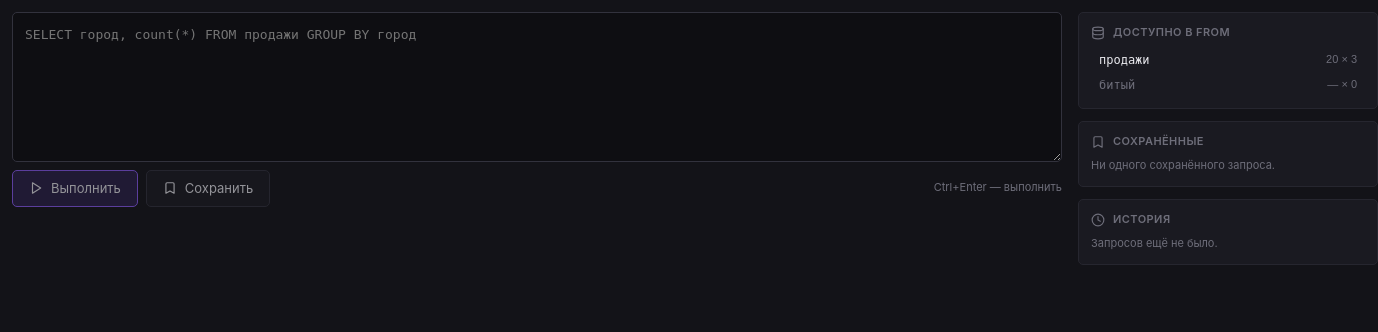
it: окно SQL › выполняет запрос и показывает результат
This screenshot has width=1378, height=332.
In the text box named "Текст SQL-запроса": (537, 87) top-left (12, 12), bottom-right (1062, 162), type "SELECT 1 FROM продажи"
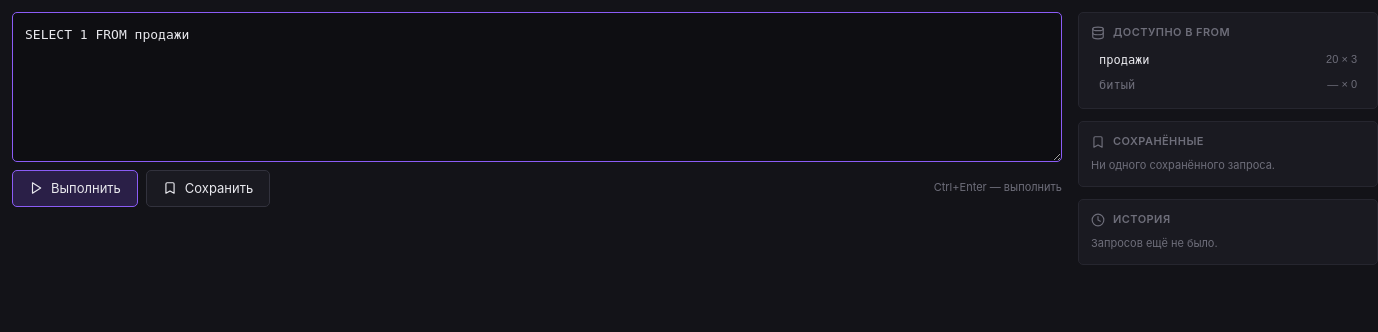
Click the button "Выполнить": (75, 188) top-left (12, 170), bottom-right (138, 207)
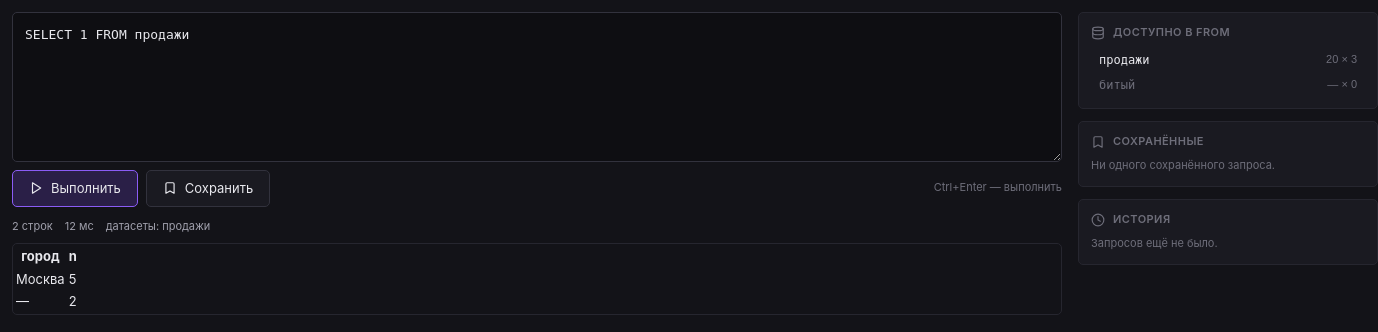
Expected: the text "Москва" is shown, top-left (15, 269), bottom-right (66, 289)
